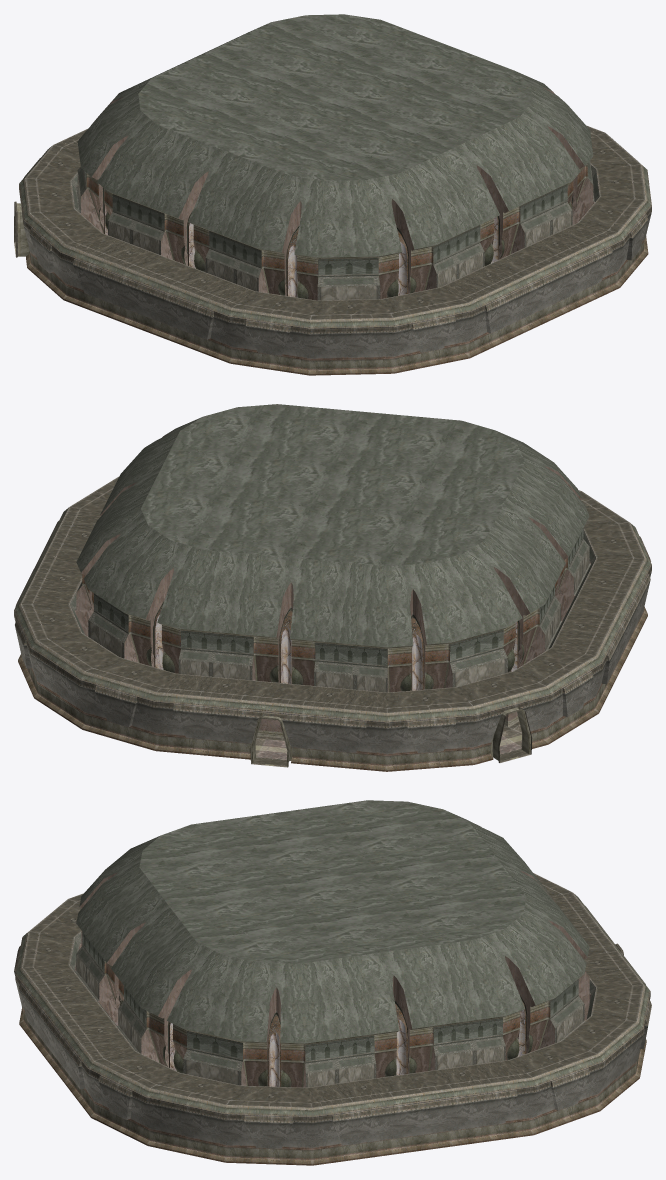
The model's file is thm_yavn_jedi_enclave_light_r15_tier3room_mesh_r15.fbx.
The picture shows the model from 3 angles, top to bottom: view 1: azimuth 30°, elevation 25°; view 2: azimuth 150°, elevation 25°; view 3: azimuth 270°, elevation 25°; orthographic projection. The views are drawn at different scales.
Parts seen in each view (by area): view 1: mesh_node; view 2: mesh_node; view 3: mesh_node.
Boxes of the visible parts, x1,y1,x2,y2 form: mesh_node: [14, 14, 651, 375]; mesh_node: [14, 404, 651, 771]; mesh_node: [14, 800, 651, 1165].
Size of the model in its own units: 38.33 by 10.21 by 38.33.
